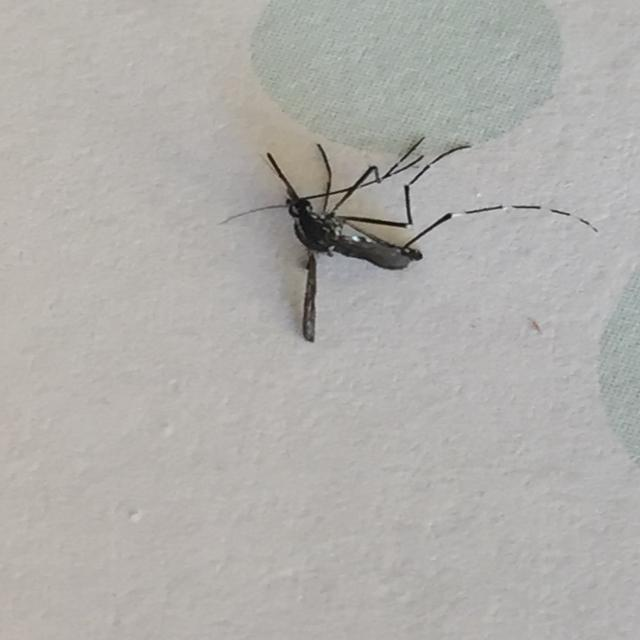albopictus: (211, 121, 588, 341)
